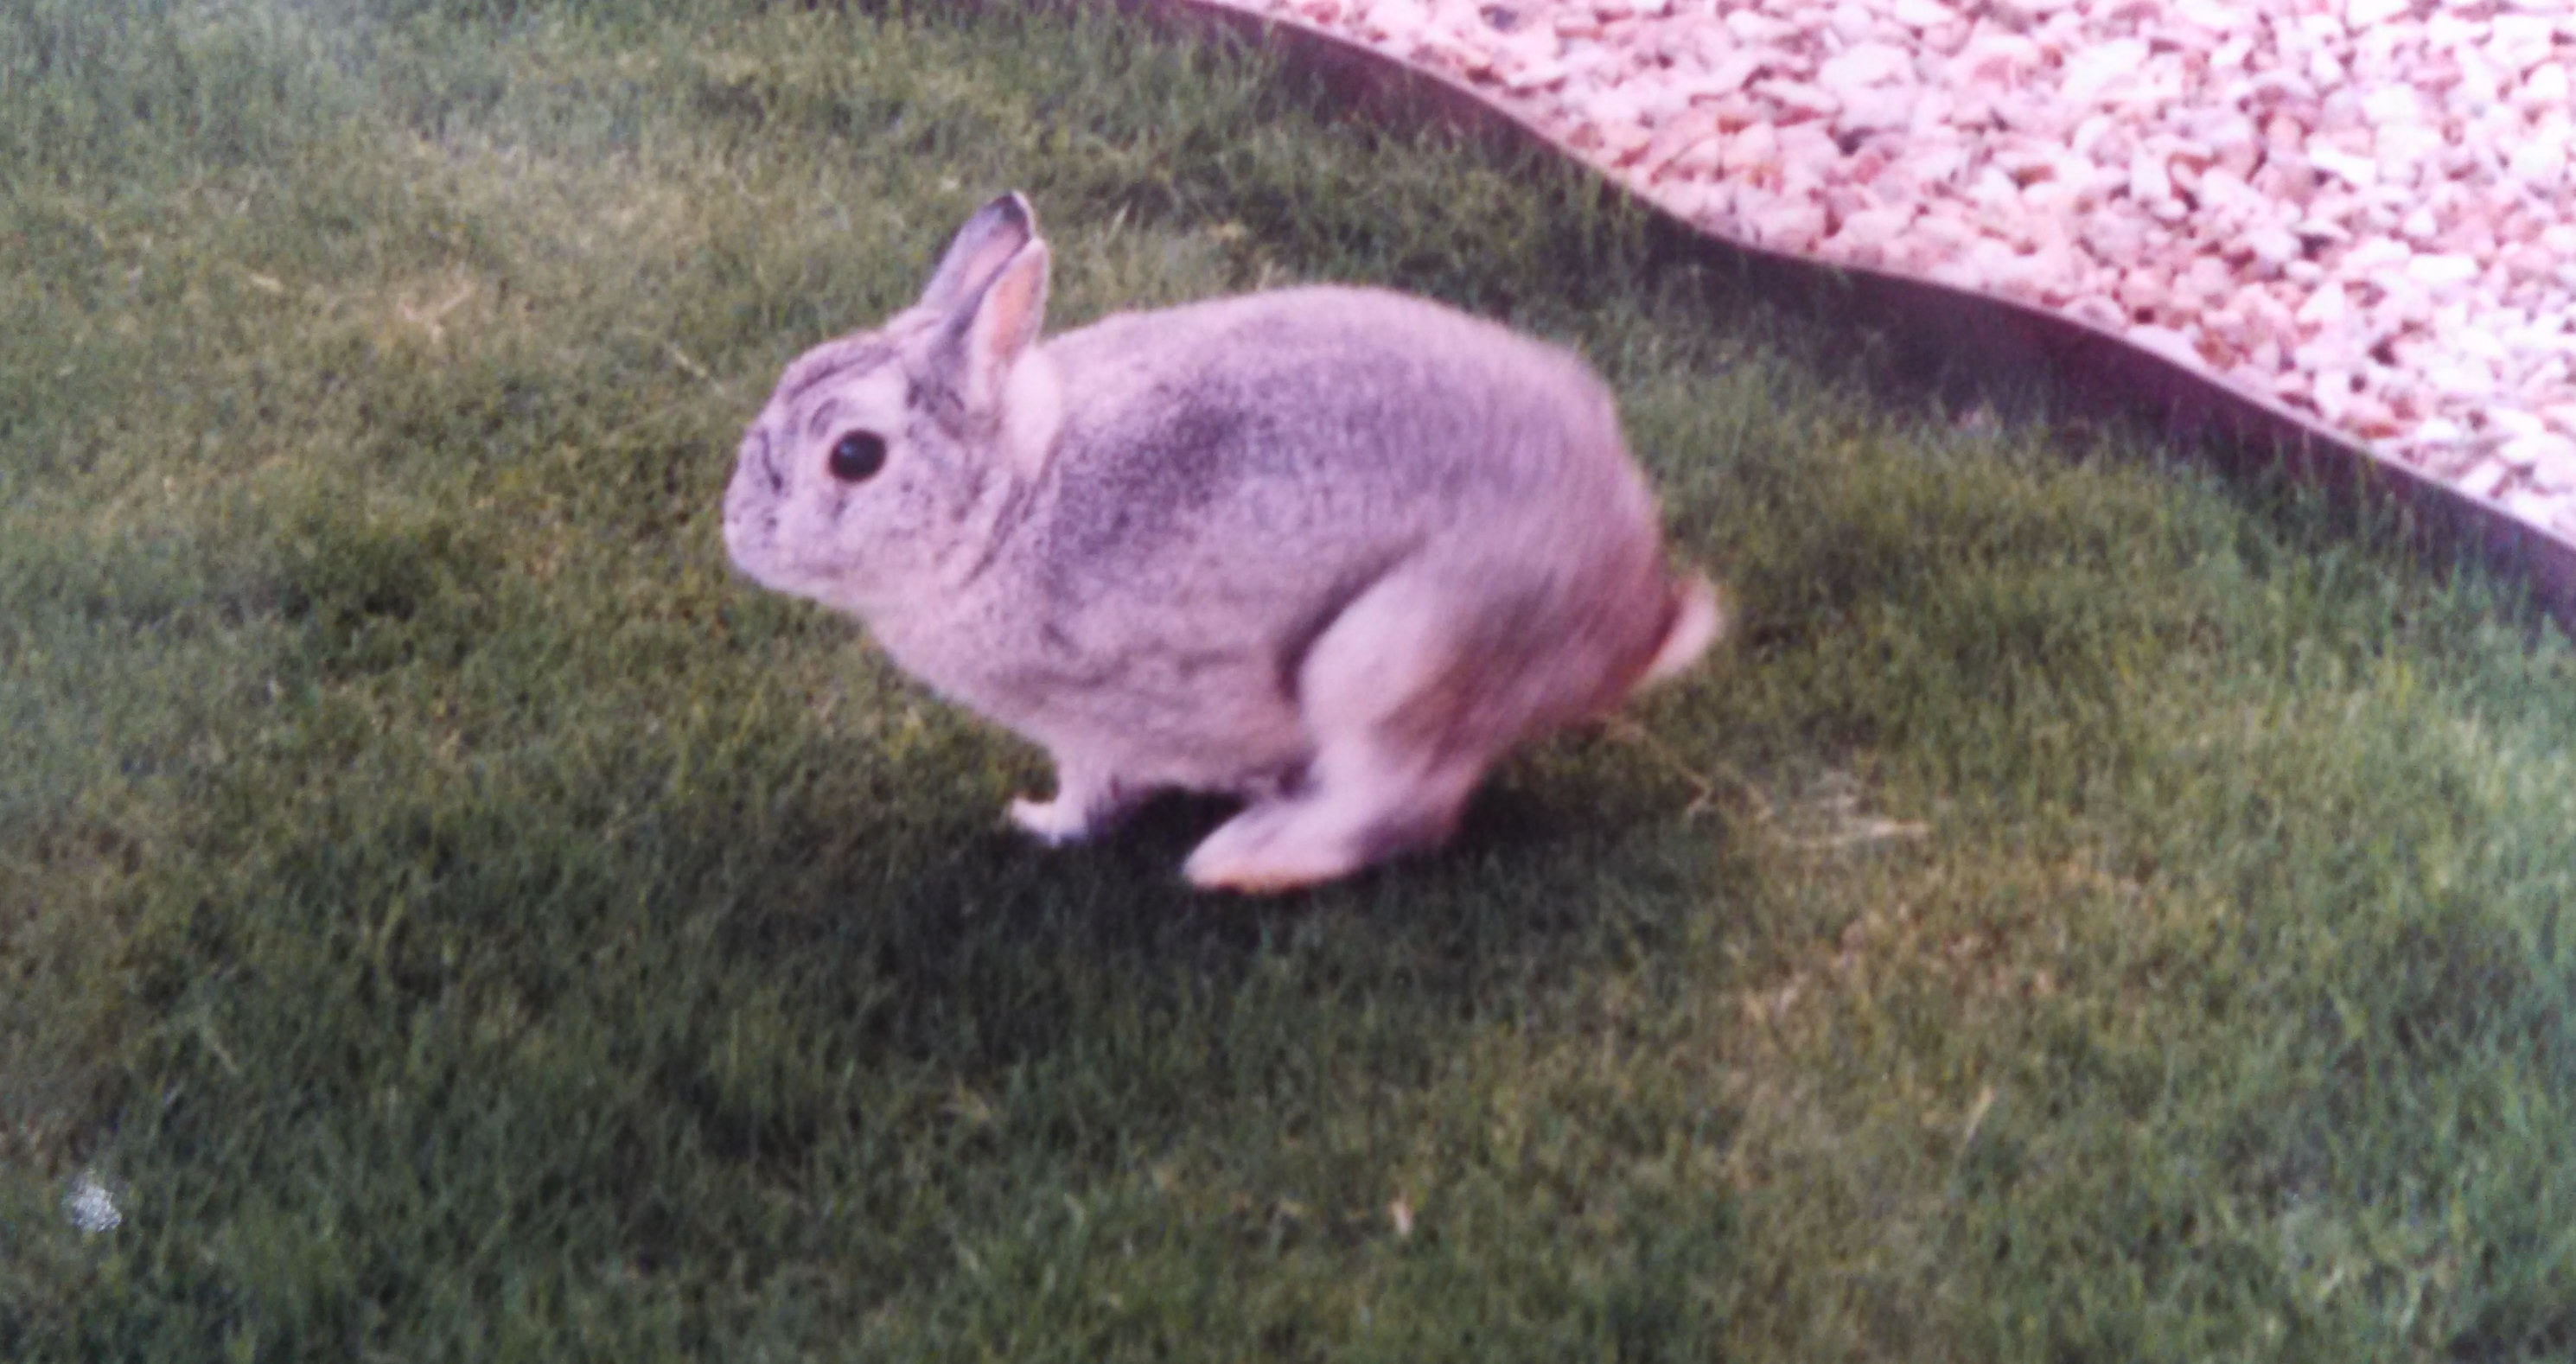bunny: (591, 169, 1779, 935)
